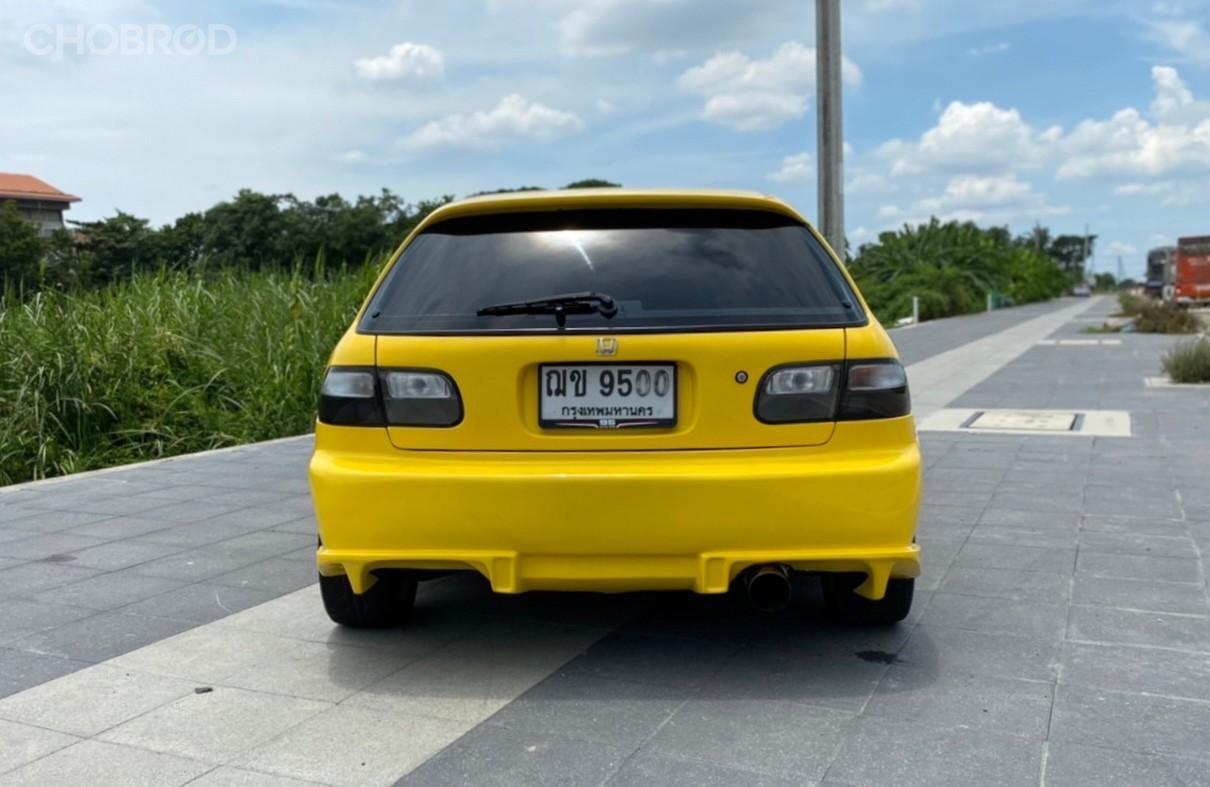license-plate: (535, 360, 681, 434)
